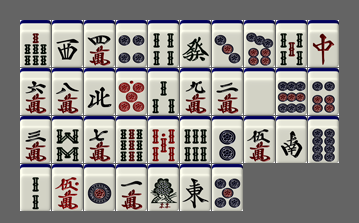0m: (52, 164, 83, 211)
0p: (116, 68, 147, 115)
0s: (148, 116, 179, 163)
1m: (116, 164, 147, 211)
1p: (84, 164, 115, 211)
1s: (148, 164, 179, 211)
1z: (180, 164, 211, 211)
2m: (212, 68, 243, 115)
2p: (212, 116, 243, 163)
2s: (20, 164, 51, 211)
2z: (276, 116, 307, 163)
3m: (20, 116, 51, 163)
3p: (212, 20, 243, 67)
3s: (148, 68, 179, 115)
3z: (52, 20, 83, 67)
4m: (84, 20, 115, 67)
4p: (116, 20, 147, 67)
4s: (148, 20, 179, 67)
4z: (84, 68, 115, 115)
5m: (244, 116, 275, 163)
5p: (212, 164, 243, 211)
5s: (276, 20, 307, 67)
5z: (244, 68, 275, 115)
6m: (20, 68, 51, 115)
6p: (308, 68, 339, 115)
6s: (180, 116, 211, 163)
6z: (180, 20, 211, 67)
7m: (84, 116, 115, 163)
7p: (244, 20, 275, 67)
7s: (20, 20, 51, 67)
7z: (308, 20, 339, 67)
8m: (52, 68, 83, 115)
8p: (308, 116, 339, 163)
8s: (52, 116, 83, 163)
9m: (180, 68, 211, 115)
9p: (276, 68, 307, 115)
9s: (116, 116, 147, 163)
